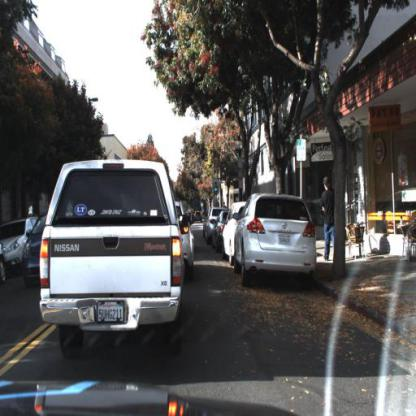car: (40, 156, 185, 361), (236, 193, 317, 290), (170, 193, 199, 276), (23, 211, 48, 299), (225, 202, 242, 266), (213, 210, 229, 254)
pedestrian: (318, 165, 347, 272), (322, 170, 336, 266)
trafficLight-Green: (213, 178, 221, 195)
